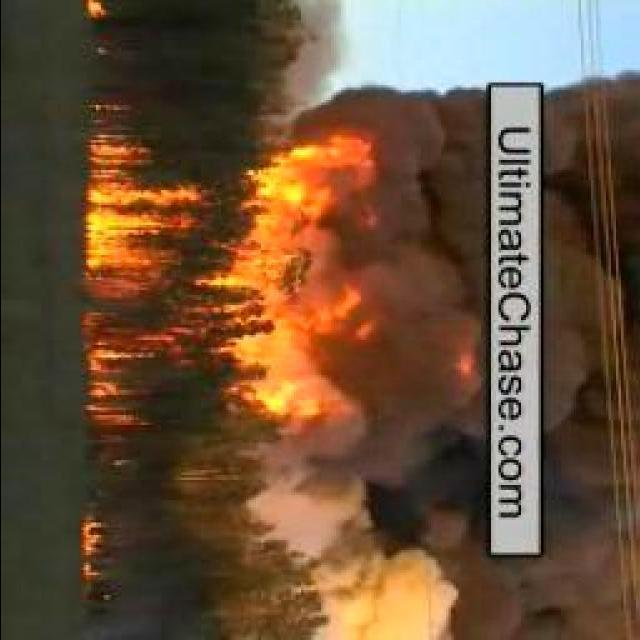Fire: (80, 128, 390, 432), (82, 514, 104, 582), (81, 0, 107, 27)
